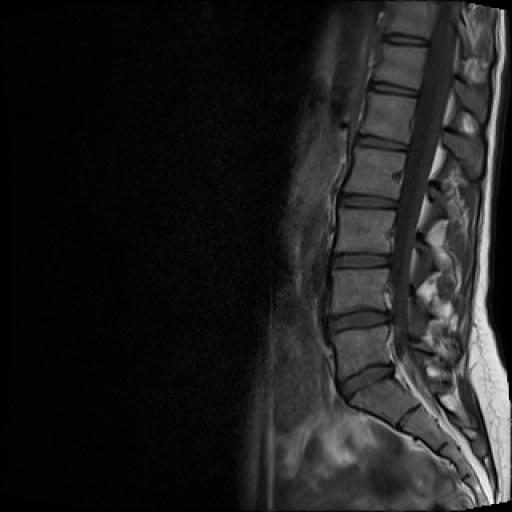L1: (360, 92, 417, 143)
L2: (345, 147, 406, 199)
L3: (336, 208, 395, 252)
L4: (331, 268, 389, 313)
L5: (330, 325, 391, 380)
S1: (347, 378, 420, 427)
